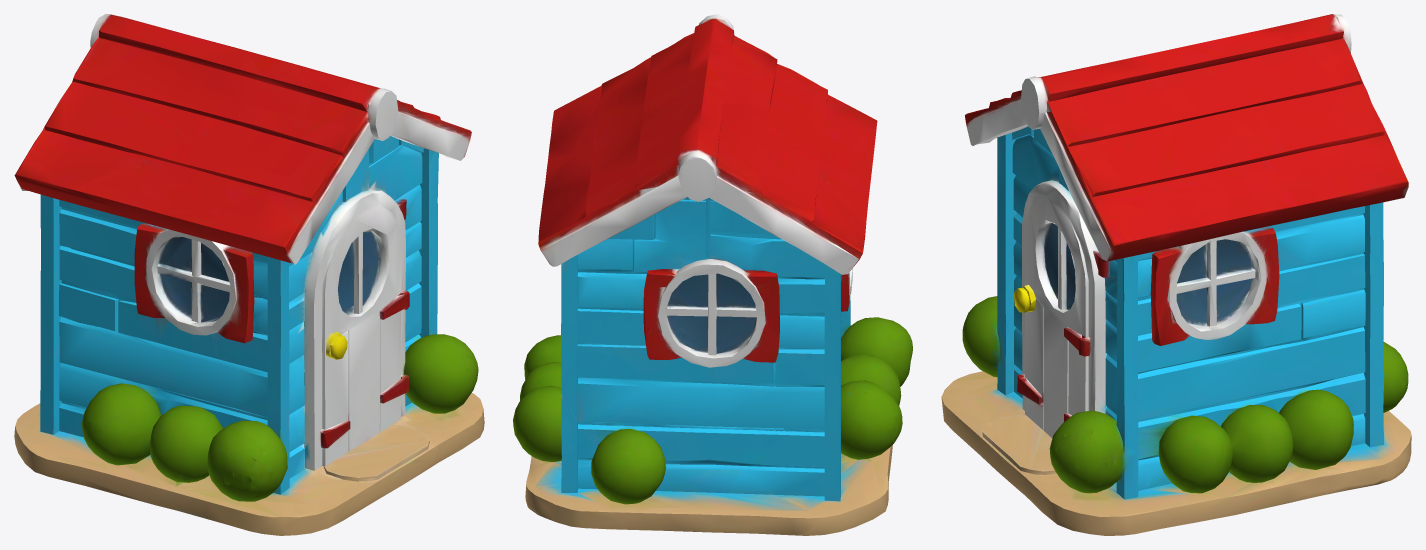
File: house.glb
3 renders of one model, left to right at view 1: azimuth 30°, elevation 25°; view 2: azimuth 150°, elevation 25°; view 3: azimuth 270°, elevation 25°, orthographic. The views are drawn at different scales.
Parts seen in each view (by area): view 1: tripo_node_9010c447-23ca-4f92-9e55-35de5e4dfed9; view 2: tripo_node_9010c447-23ca-4f92-9e55-35de5e4dfed9; view 3: tripo_node_9010c447-23ca-4f92-9e55-35de5e4dfed9.
Boxes of the visible parts, x1,y1,x2,y2 form: tripo_node_9010c447-23ca-4f92-9e55-35de5e4dfed9: (14, 14, 484, 535); tripo_node_9010c447-23ca-4f92-9e55-35de5e4dfed9: (513, 14, 912, 535); tripo_node_9010c447-23ca-4f92-9e55-35de5e4dfed9: (941, 14, 1411, 535).
Size of the model in its own units: 6.44 by 6 by 6.5.
Materials: 1 (1 with a texture image).
